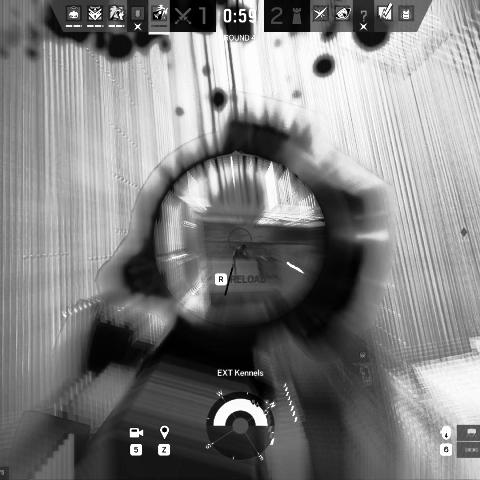Character: (231, 243, 249, 258)
Head: (242, 244, 246, 249)
